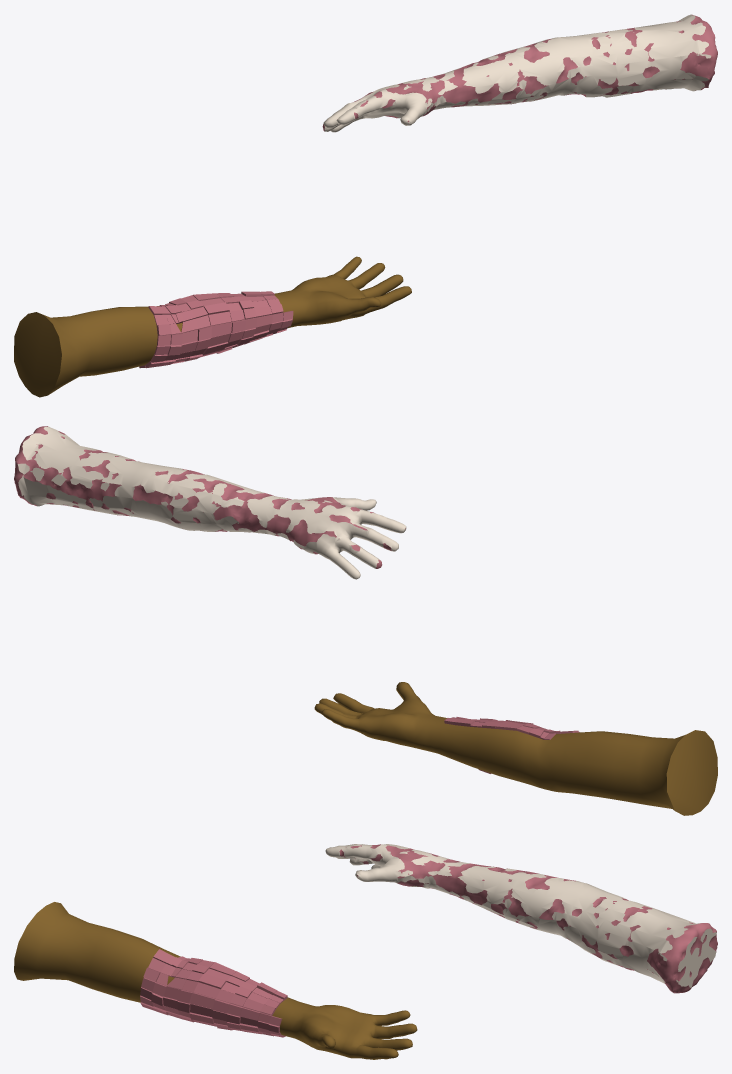
Rendered from DesktopModel.glb.
The picture shows the model from 3 angles, top to bottom: view 1: azimuth 30°, elevation 25°; view 2: azimuth 150°, elevation 25°; view 3: azimuth 330°, elevation 25°; orthographic projection.
Visible parts, largest first — view 1: Lhand, Rhand; view 2: Lhand, Rhand; view 3: Lhand, Rhand.
Part boxes in pixels (bbox=[...]): Lhand: bbox=[14, 256, 411, 397]; Rhand: bbox=[322, 14, 717, 132]; Lhand: bbox=[314, 682, 717, 815]; Rhand: bbox=[14, 426, 406, 579]; Lhand: bbox=[14, 902, 417, 1059]; Rhand: bbox=[325, 844, 717, 993].
Size of the model in its own units: 6.27 by 2.02 by 0.8428.
